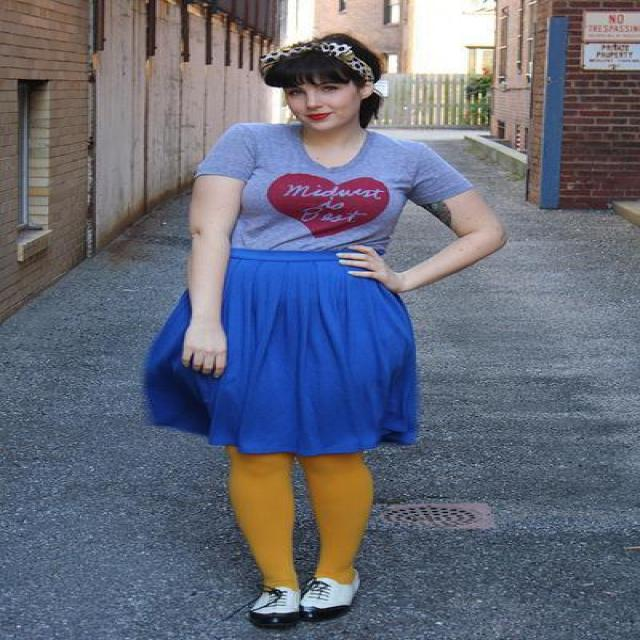shirt: (197, 120, 480, 266)
shoe: (250, 578, 356, 639)
skirt: (143, 246, 420, 454)
